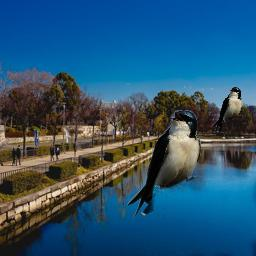Swallow: (127, 110, 201, 220), (211, 87, 242, 134)
